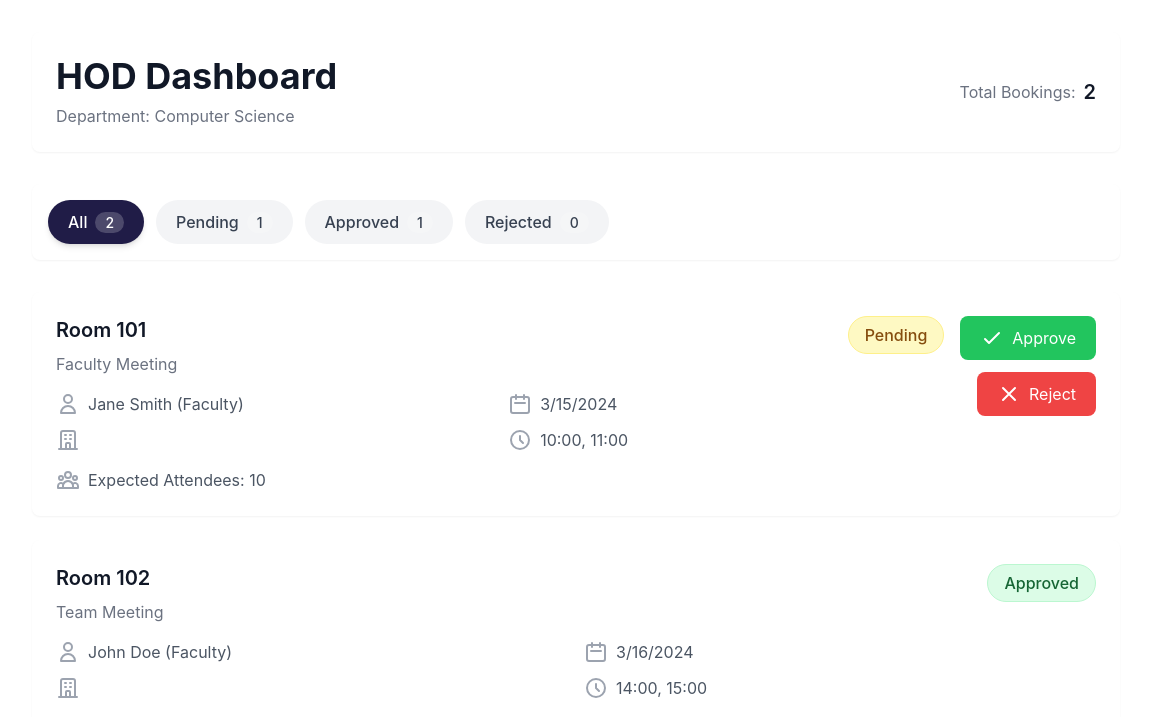
Scenario: HOD Dashboard Page › filters bookings by status
Expected: the heading "Room 101" is shown, left=56, top=318, right=146, bottom=342
Expected: the heading "Room 102" is shown, left=56, top=566, right=150, bottom=590
Click Pending filter
Click the button named "Pending 1".
click(224, 222)  # box left=156, top=200, right=292, bottom=244
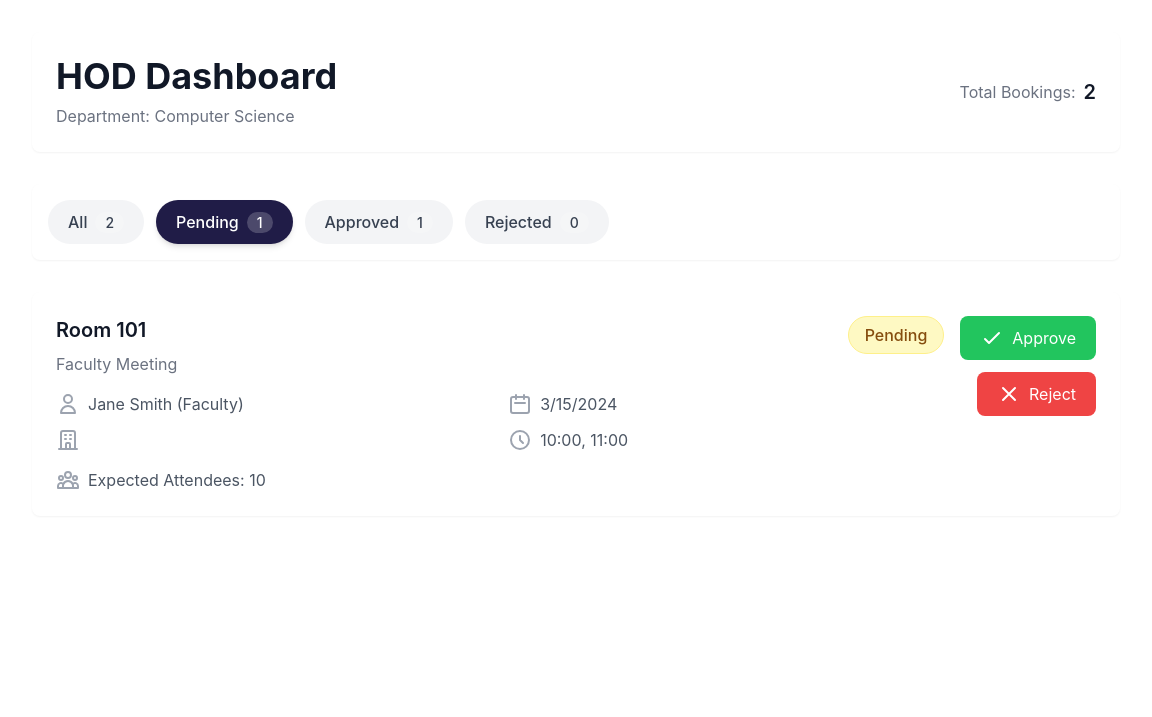
Expected: the heading "Room 101" is shown, left=56, top=318, right=146, bottom=342
Result: the heading "Room 102" is gone
Click Approved filter
Click the button named "Approved 1".
click(379, 222)  # box left=304, top=200, right=453, bottom=244
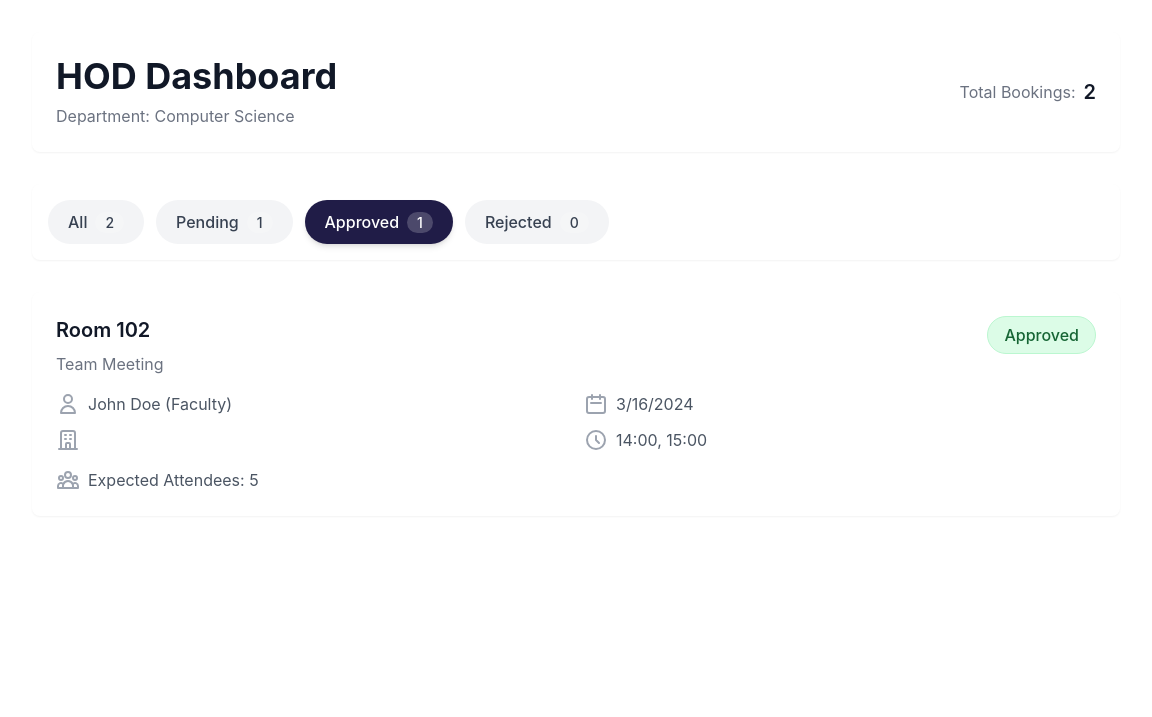
Result: the heading "Room 101" is gone
Result: the heading "Room 102" is shown at left=56, top=318, right=150, bottom=342
